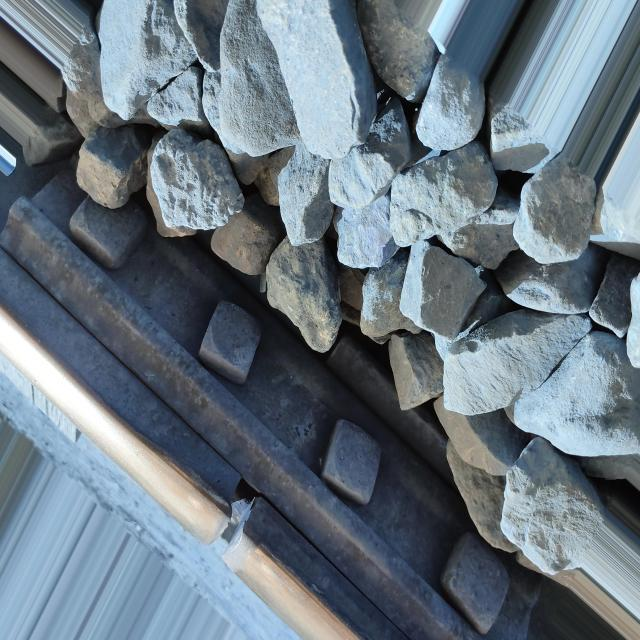Good Joint: (3, 163, 534, 640)
